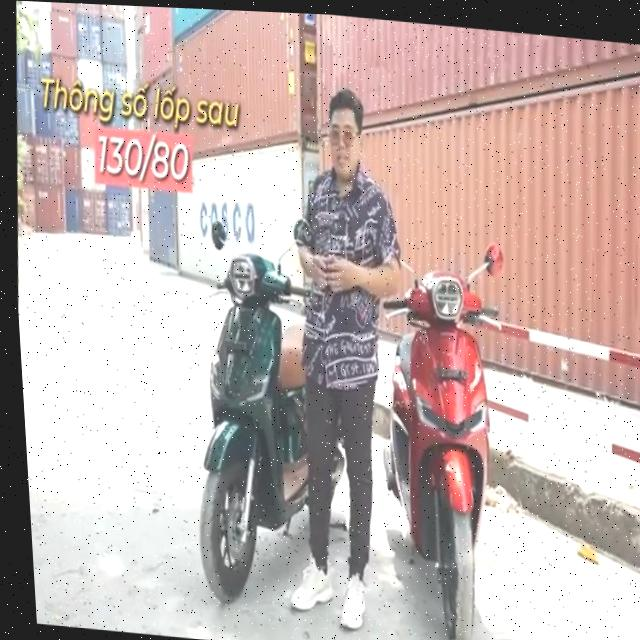motorcycle: (356, 230, 544, 640), (167, 211, 336, 618)
